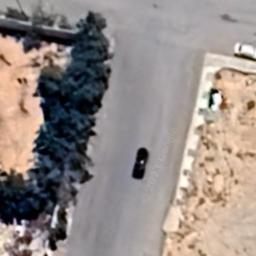sedan: (132, 146, 150, 180)
